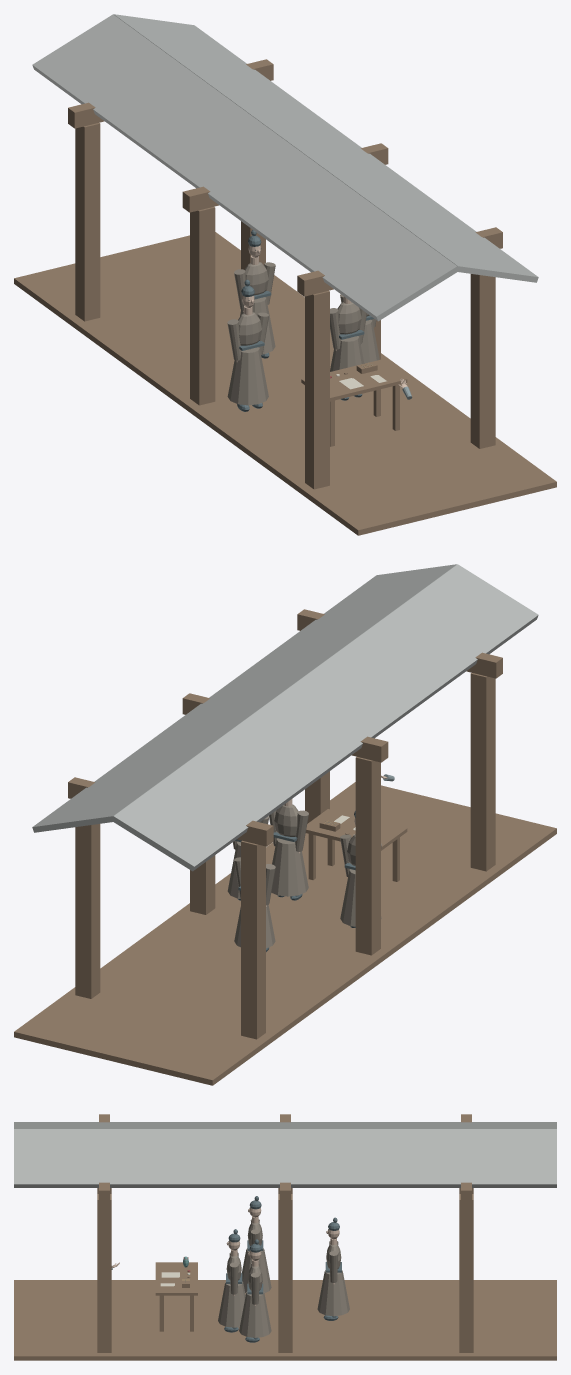
The picture shows the model from 3 angles, top to bottom: view 1: azimuth 30°, elevation 25°; view 2: azimuth 150°, elevation 25°; view 3: azimuth 270°, elevation 25°; orthographic projection. The views are drawn at different scales.
Visible parts, largest first — view 1: floor (×3), roof_left (×3), column (×4), roof_right (×3), beam (×3), robe_skirt (×2), tabletop, torso (×2); view 2: floor (×3), roof_left (×3), column (×6), roof_right (×3), beam (×3), robe_skirt (×2), tabletop, torso; view 3: floor (×3), roof_right (×3), column (×3), roof_left (×3), robe_skirt (×4), tabletop, beam (×3).
Boxes of the visible parts, <box> form: floor (×3): <box>14,232,556,535</box>; roof_left (×3): <box>32,14,458,321</box>; column (×4): <box>75,123,495,489</box>; roof_right (×3): <box>114,14,538,282</box>; beam (×3): <box>68,59,502,296</box>; robe_skirt (×2): <box>227,336,364,405</box>; tabletop: <box>301,359,407,401</box>; torso (×2): <box>238,302,361,349</box>; floor (×3): <box>14,782,556,1085</box>; roof_left (×3): <box>112,564,538,871</box>; column (×6): <box>75,673,495,1039</box>; roof_right (×3): <box>32,564,456,832</box>; beam (×3): <box>68,609,502,846</box>; robe_skirt (×2): <box>271,838,381,926</box>; tabletop: <box>305,809,407,850</box>; torso: <box>274,804,298,840</box>; floor (×3): <box>14,1280,556,1360</box>; roof_right (×3): <box>14,1129,556,1187</box>; column (×3): <box>97,1194,473,1352</box>; roof_left (×3): <box>14,1122,556,1128</box>; robe_skirt (×4): <box>218,1248,349,1337</box>; tabletop: <box>155,1262,197,1295</box>; beam (×3): <box>99,1114,471,1203</box>.
Size of the model in its own units: 3 by 3.54 by 9.
